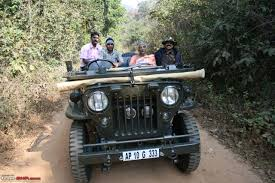Person: (130, 35, 179, 61), (80, 33, 122, 60)
Vehicle: (64, 60, 207, 180)
